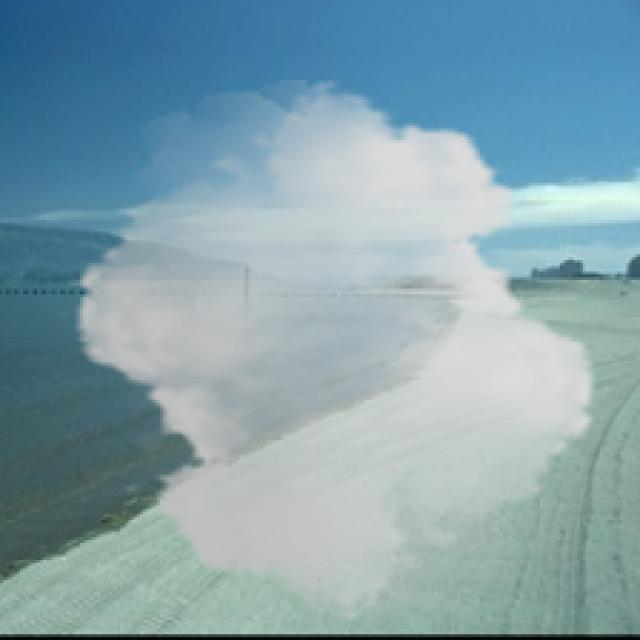smoke: (54, 80, 617, 623)
